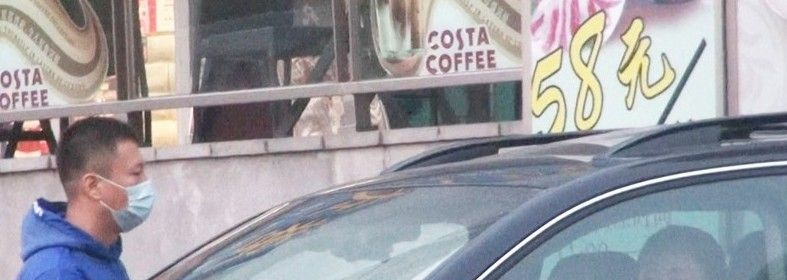face_mask: (107, 148, 156, 231)
